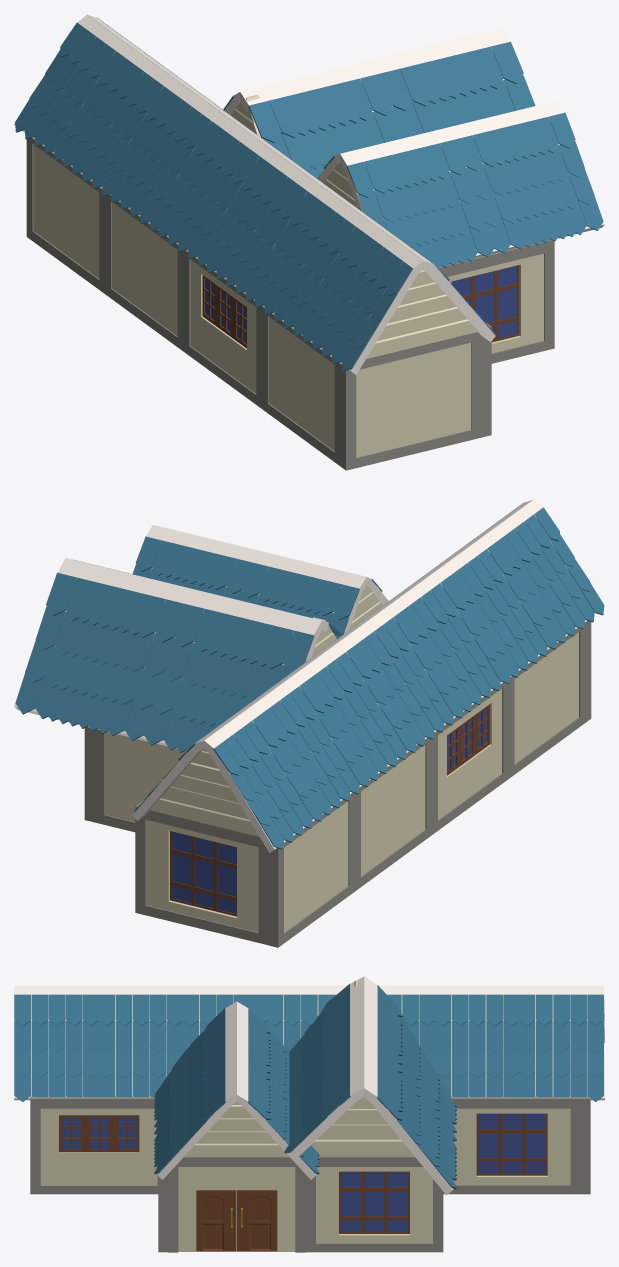
The model's file is House_02.obj.
The picture shows the model from 3 angles, top to bottom: view 1: azimuth 30°, elevation 25°; view 2: azimuth 150°, elevation 25°; view 3: azimuth 270°, elevation 25°; orthographic projection. The views are drawn at different scales.
Parts seen in each view (by area): view 1: House_02_Cube.001; view 2: House_02_Cube.001; view 3: House_02_Cube.001.
Part boxes in pixels (x1=…): House_02_Cube.001: x1=14, y1=14, x2=604, y2=470; House_02_Cube.001: x1=14, y1=499, x2=604, y2=947; House_02_Cube.001: x1=14, y1=976, x2=604, y2=1252.
Bounding box in the file's own units: 12.6 × 7.4 × 20.65.
